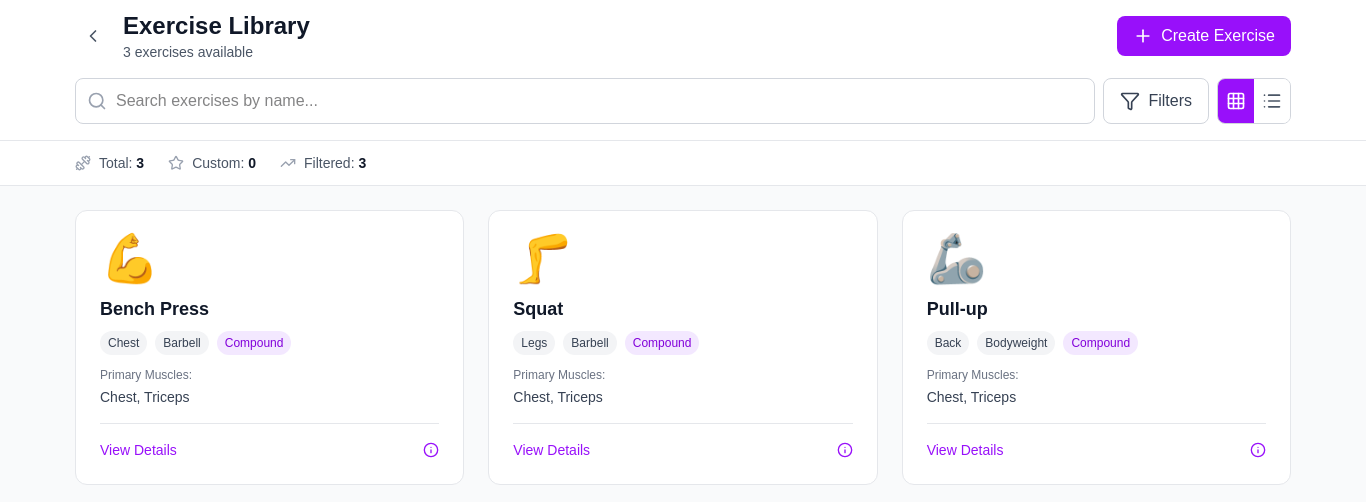
Test: Exercise Library Integration › Empty States › should show empty state when no search results
Type "nonexistent" into the field with placeholder "Search exercises by name...".
click(585, 101); type("nonexistent")  # box [75,78,1095,124]
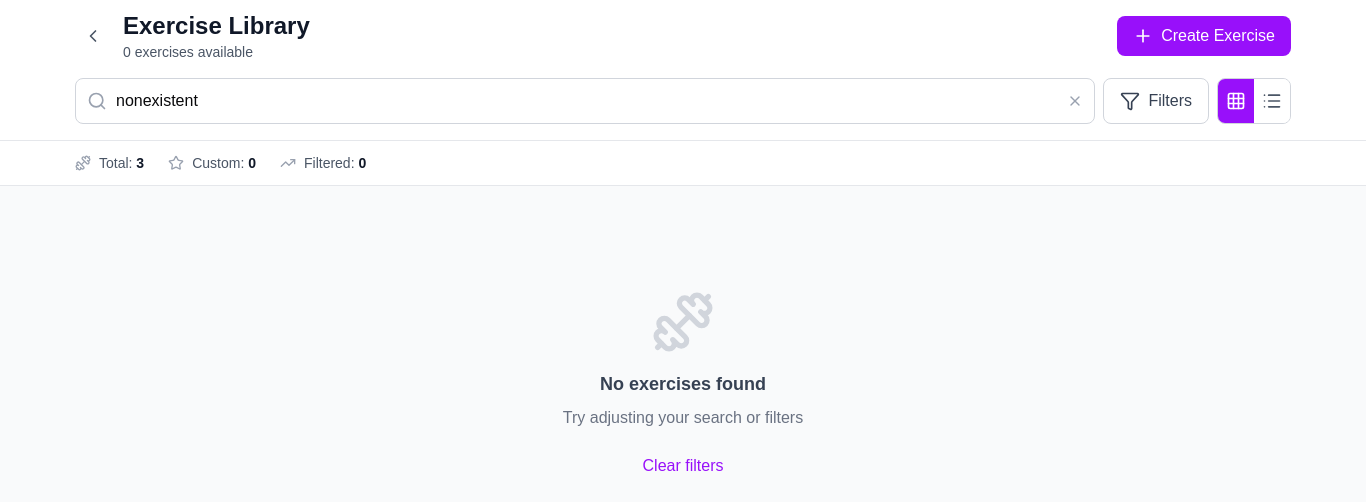
Expected: the heading "No exercises found" is shown, [600,374,766,394]
